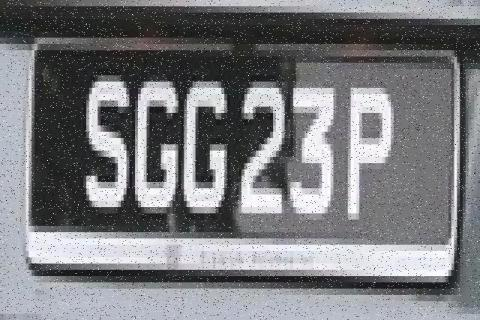LicensePlate: (26, 37, 465, 287)
